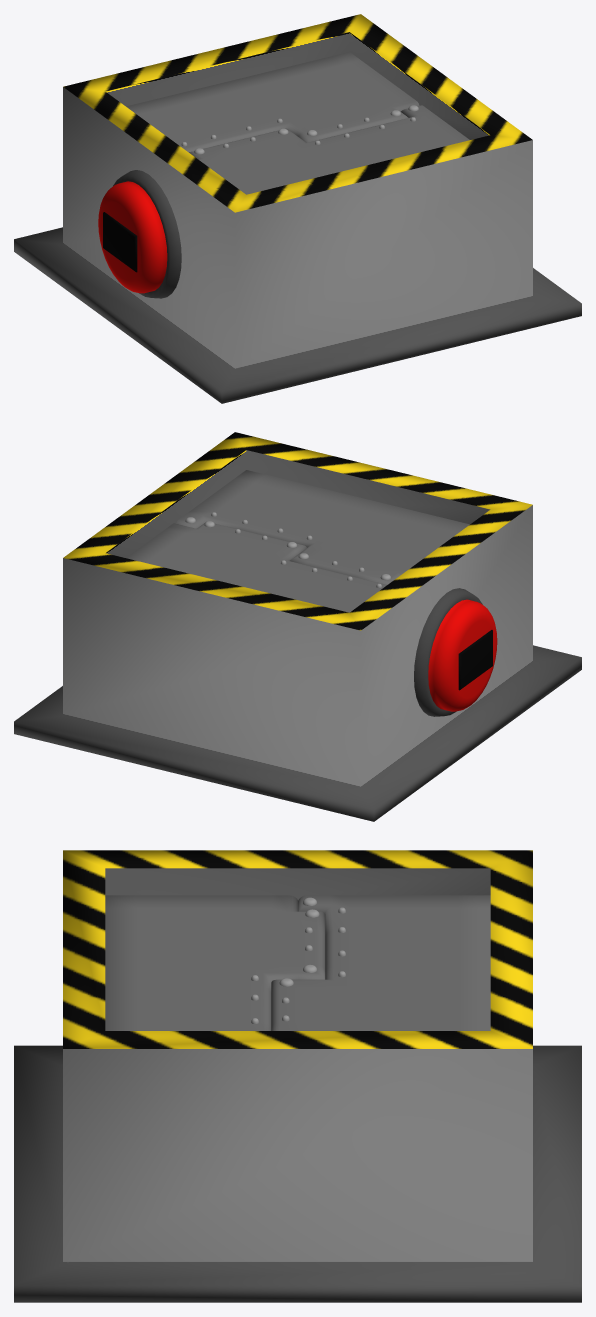
File: PiramidBox.fbx
3 views of the same model, one above another, from view 1: azimuth 30°, elevation 25°; view 2: azimuth 150°, elevation 25°; view 3: azimuth 270°, elevation 25° (orthographic). The views are drawn at different scales.
Visible parts, largest first — view 1: Cube.028, Cube.029, Cube.030, Cylinder.015; view 2: Cube.028, Cube.030, Cube.029, Cylinder.015; view 3: Cube.028, Cube.030, Cube.029.
Part boxes in pixels (box(x1,y1,x2,y2)): Cube.028: box(14, 14, 581, 403); Cube.029: box(126, 52, 419, 152); Cube.030: box(189, 105, 469, 194); Cylinder.015: box(98, 181, 167, 293); Cube.028: box(14, 432, 581, 821); Cube.030: box(176, 470, 469, 584); Cube.029: box(126, 521, 386, 612); Cylinder.015: box(428, 599, 497, 711); Cube.028: box(14, 850, 581, 1302); Cube.030: box(105, 895, 325, 1030); Cube.029: box(271, 895, 490, 1030).
Size of the model in its own units: 391 by 177 by 391.
Materials: 7 (1 with a texture image).
